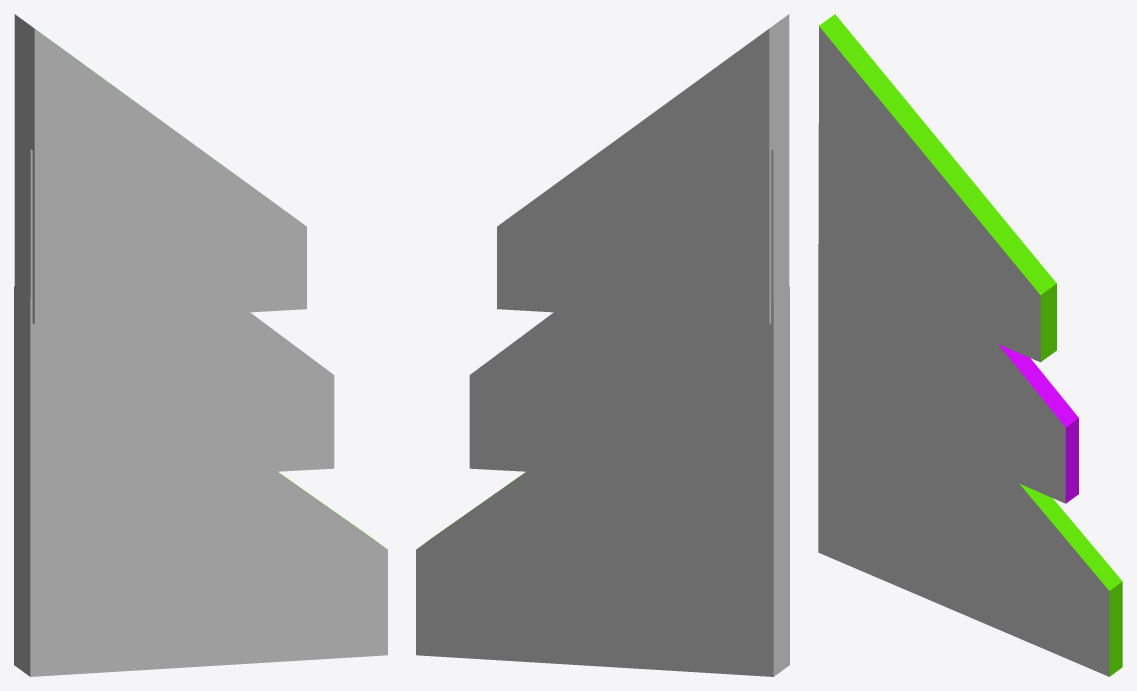
File: altk_lv4.fbx
3 renders of one model, left to right at view 1: azimuth 30°, elevation 25°; view 2: azimuth 150°, elevation 25°; view 3: azimuth 330°, elevation 25°, orthographic. The views are drawn at different scales.
Visible parts, largest first — view 1: altk_lv4; view 2: altk_lv4; view 3: altk_lv4.
Boxes of the visible parts, left/top/right/bottom form: altk_lv4: left=14, top=14, right=387, bottom=676; altk_lv4: left=416, top=14, right=789, bottom=676; altk_lv4: left=818, top=14, right=1122, bottom=676.
Bounding box in the file's own units: 91.83 × 175 × 8.89.
